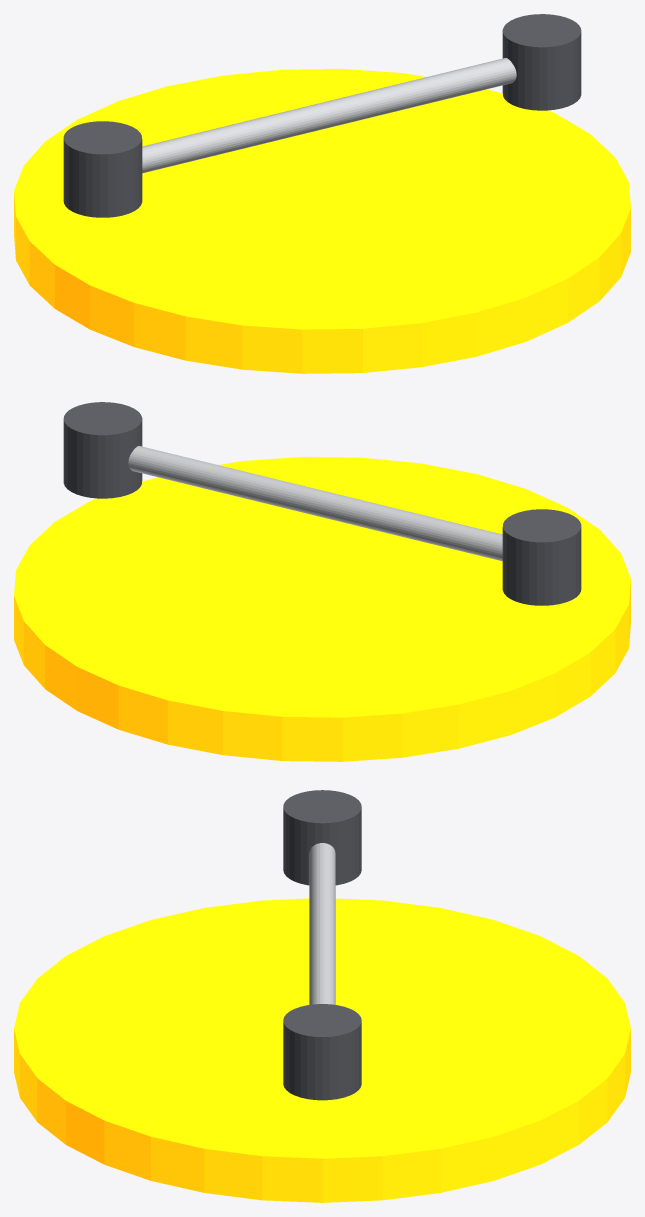
The model's file is fitness_barbell.glb.
3 renders of one model, top to bottom at view 1: azimuth 30°, elevation 25°; view 2: azimuth 150°, elevation 25°; view 3: azimuth 270°, elevation 25°, orthographic.
Parts seen in each view (by area): view 1: 02_16_Popular_Fitness_Barbell_ROOT_base, 02_16_Popular_Fitness_Barbell_part_01, 02_16_Popular_Fitness_Barbell_part_02, 02_16_Popular_Fitness_Barbell_part_03; view 2: 02_16_Popular_Fitness_Barbell_ROOT_base, 02_16_Popular_Fitness_Barbell_part_01, 02_16_Popular_Fitness_Barbell_part_02, 02_16_Popular_Fitness_Barbell_part_03; view 3: 02_16_Popular_Fitness_Barbell_ROOT_base, 02_16_Popular_Fitness_Barbell_part_03, 02_16_Popular_Fitness_Barbell_part_02, 02_16_Popular_Fitness_Barbell_part_01.
Boxes of the visible parts, x1,y1,x2,y2 form: 02_16_Popular_Fitness_Barbell_ROOT_base: (14,69,630,373); 02_16_Popular_Fitness_Barbell_part_01: (142,58,516,173); 02_16_Popular_Fitness_Barbell_part_02: (63,121,142,217); 02_16_Popular_Fitness_Barbell_part_03: (502,14,581,110); 02_16_Popular_Fitness_Barbell_ROOT_base: (14,457,630,761); 02_16_Popular_Fitness_Barbell_part_01: (128,446,502,561); 02_16_Popular_Fitness_Barbell_part_02: (502,509,581,605); 02_16_Popular_Fitness_Barbell_part_03: (63,402,142,498); 02_16_Popular_Fitness_Barbell_ROOT_base: (14,898,630,1202); 02_16_Popular_Fitness_Barbell_part_03: (283,1004,361,1100); 02_16_Popular_Fitness_Barbell_part_02: (283,790,361,885); 02_16_Popular_Fitness_Barbell_part_01: (309,843,335,1004).
Bounding box in the file's own units: 0.76 × 0.216 × 0.76.
